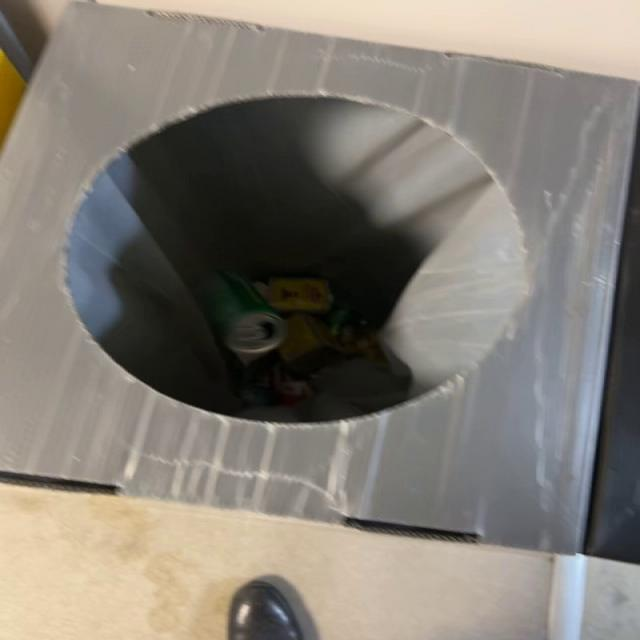bin: (1, 3, 639, 554)
metal: (203, 272, 287, 366)
